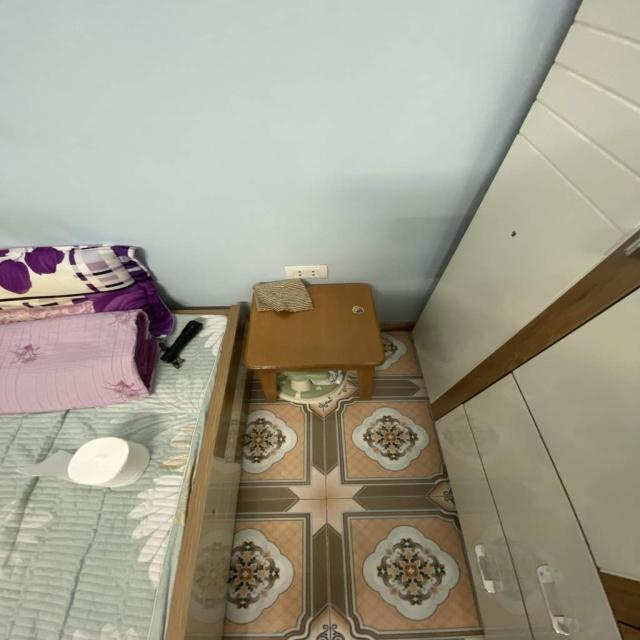outlet: (285, 265, 327, 279)
